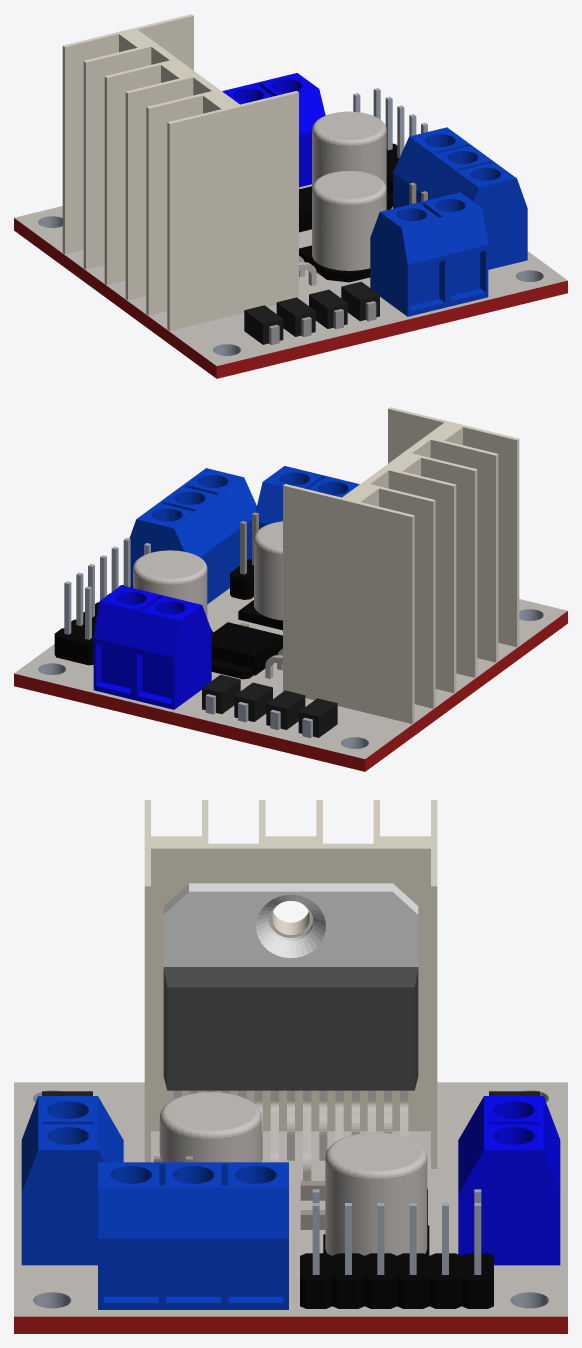
The model's file is L298_Driver.dae.
3 views of the same model, one above another, from view 1: azimuth 30°, elevation 25°; view 2: azimuth 150°, elevation 25°; view 3: azimuth 270°, elevation 25° (orthographic). The views are drawn at different scales.
Parts seen in each view (by area): view 1: 5edc184a55009d10aea409f2 (×13); view 2: 5edc184a55009d10aea409f2 (×14); view 3: 5edc184a55009d10aea409f2 (×9).
Part boxes in pixels (x1=…): 5edc184a55009d10aea409f2 (×13): x1=14, y1=14, x2=567, y2=378; 5edc184a55009d10aea409f2 (×14): x1=14, y1=407, x2=567, y2=771; 5edc184a55009d10aea409f2 (×9): x1=14, y1=800, x2=567, y2=1333.
Bounding box in the file's own units: 0.0435 × 0.0435 × 0.026.
